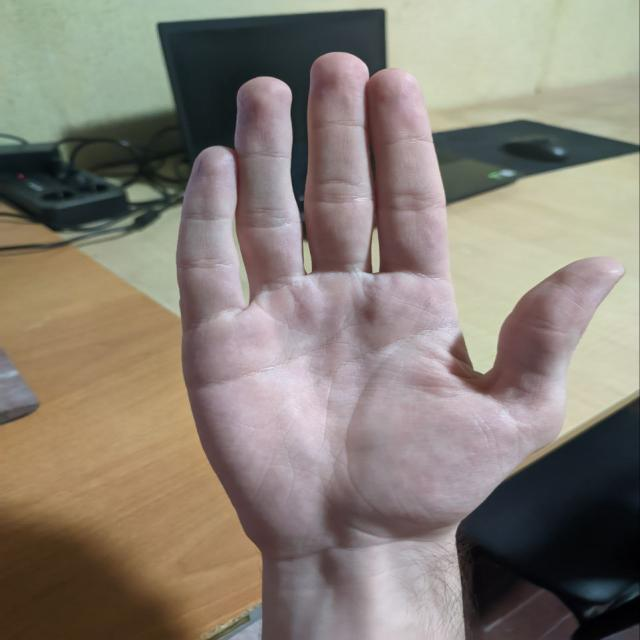v: (168, 45, 616, 482)
